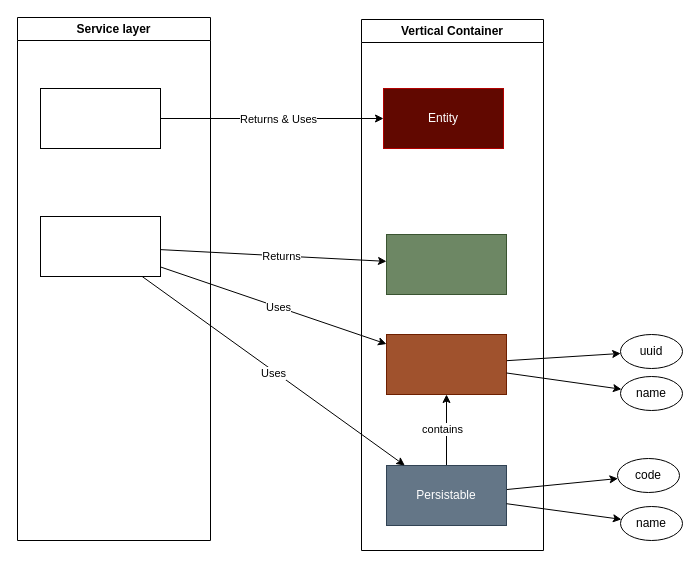
Some shapes in this 700 by 568 pixel diagram are drawn without their labels. Each missing label, with the centre of its shape:
"<<interface>> Readable domain specific" belongs at point (446, 264).
"Dto" belongs at point (446, 364).
"FacadeService" belongs at point (100, 246).
"Service" belongs at point (100, 118).
